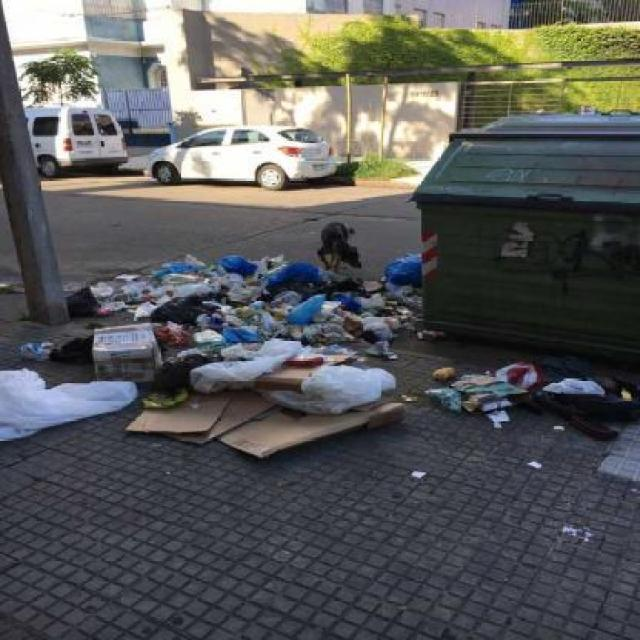garbage: (62, 272, 423, 483), (399, 356, 640, 552), (125, 254, 315, 365), (0, 303, 77, 458), (381, 251, 414, 308)
